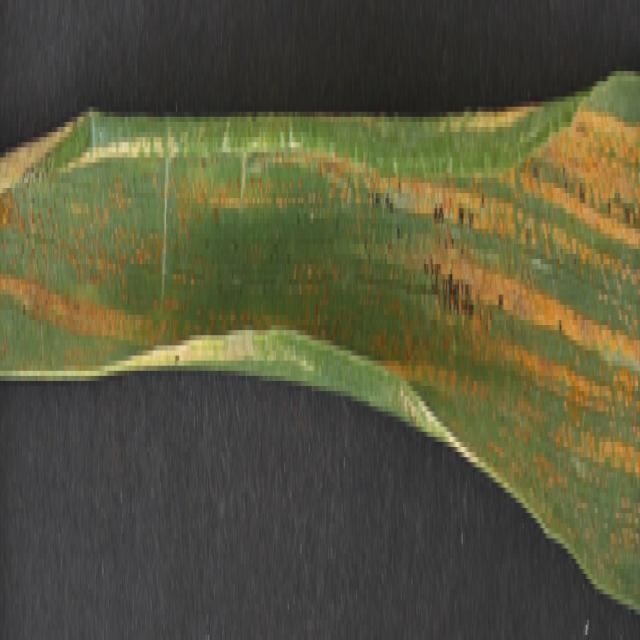leaf rust: (0, 101, 640, 467)
